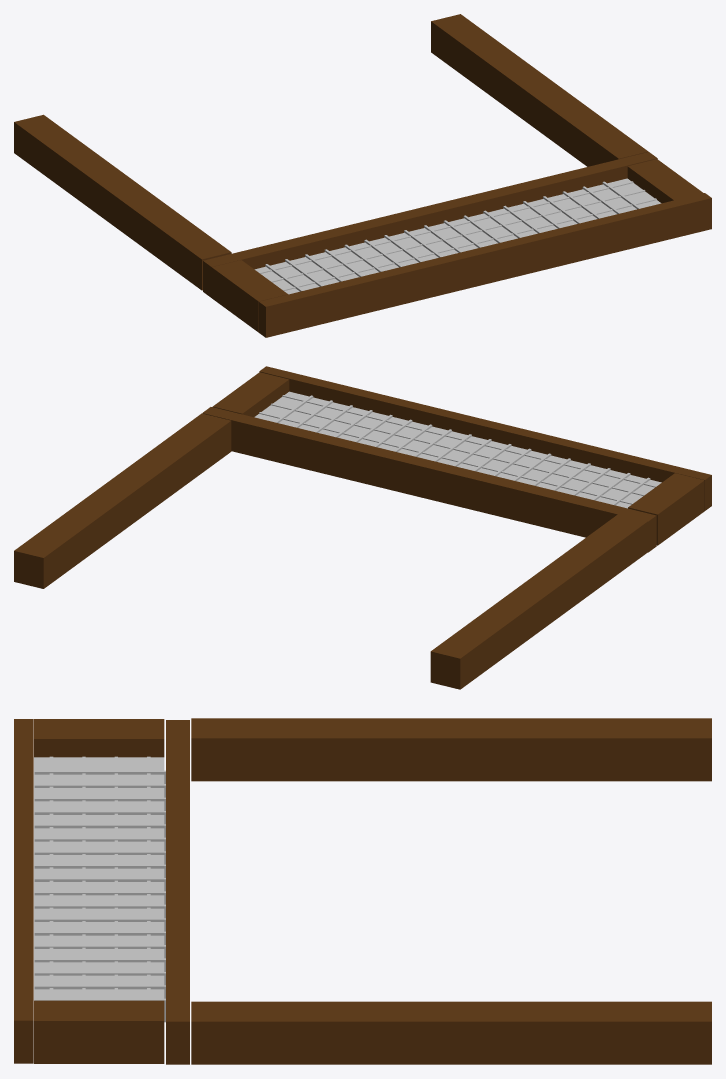
File: arco1.obj
3 renders of one model, top to bottom at view 1: azimuth 30°, elevation 25°; view 2: azimuth 150°, elevation 25°; view 3: azimuth 270°, elevation 25°, orthographic. The views are drawn at different scales.
Visible parts, largest first — view 1: group_0_6306067, group_0_14860437, group_0_11107152; view 2: group_0_6306067, group_0_14860437, group_0_11107152; view 3: group_0_6306067, group_0_14860437, group_0_11107152.
Boxes of the visible parts, <box> form: group_0_6306067: <box>14,14,711,337</box>; group_0_14860437: <box>254,178,661,294</box>; group_0_11107152: <box>259,181,656,291</box>; group_0_6306067: <box>14,366,711,689</box>; group_0_14860437: <box>254,391,661,508</box>; group_0_11107152: <box>259,395,656,505</box>; group_0_6306067: <box>14,718,711,1064</box>; group_0_14860437: <box>34,757,164,1000</box>; group_0_11107152: <box>34,756,165,1022</box>.
Bounding box in the file's own units: 90.2 × 6.2 × 88.1.
